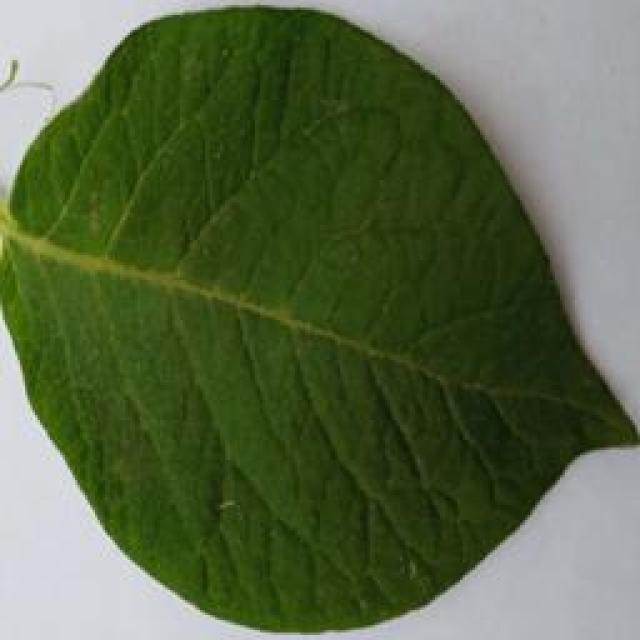Potato_Healthy: (6, 9, 626, 631)
